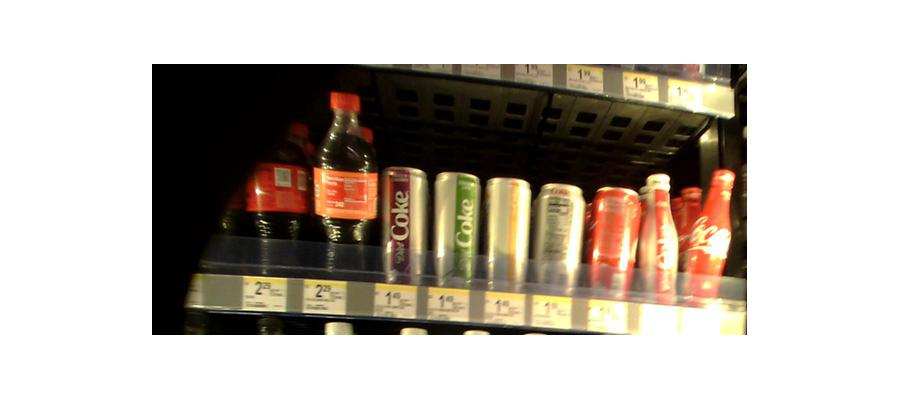bottle: (318, 91, 377, 280), (249, 120, 312, 277), (683, 164, 734, 307), (588, 181, 640, 300), (536, 182, 587, 295), (382, 158, 429, 280), (485, 173, 533, 292), (431, 171, 480, 286), (641, 172, 681, 304)
